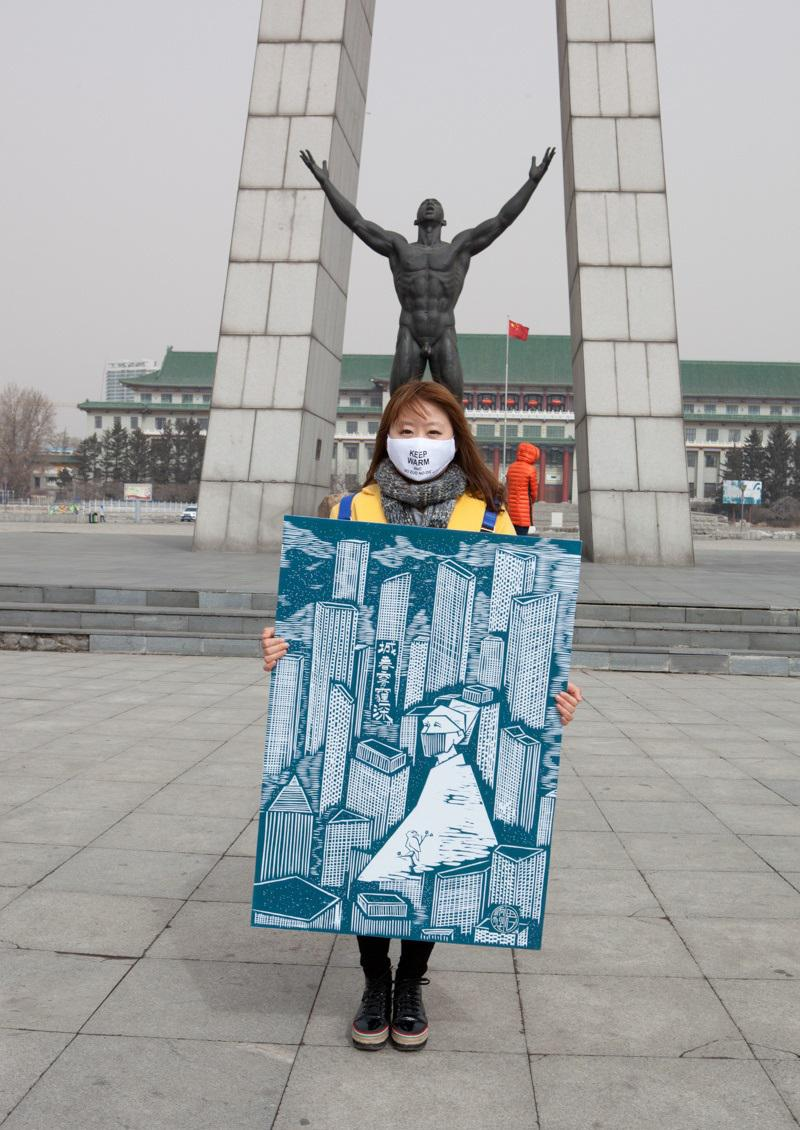OK: (391, 408, 454, 483)
